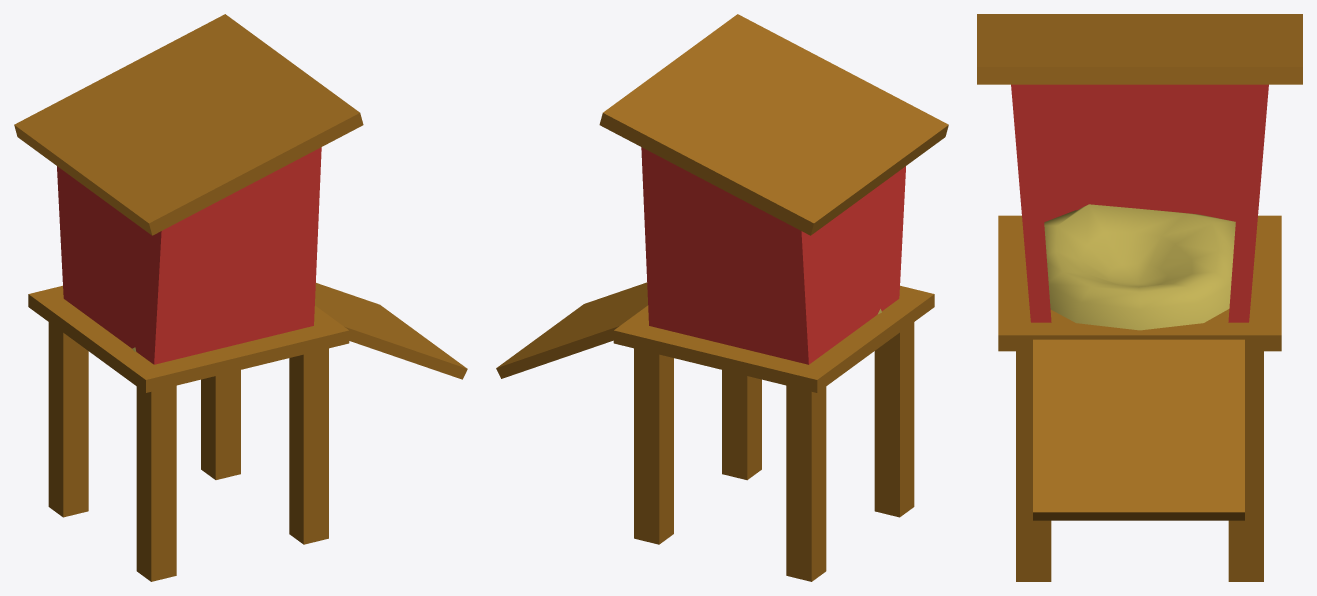
Rendered from Gallinero.fbx.
3 views of the same model, side by side, from view 1: azimuth 30°, elevation 25°; view 2: azimuth 150°, elevation 25°; view 3: azimuth 270°, elevation 25° (orthographic). The views are drawn at different scales.
Visible parts, largest first — view 1: Gallinero.001; view 2: Gallinero.001; view 3: Gallinero.001.
Boxes of the visible parts, <box> form: Gallinero.001: <box>14,14,467,581</box>; Gallinero.001: <box>496,14,948,581</box>; Gallinero.001: <box>977,14,1302,581</box>.
Bounding box in the file's own units: 415 × 342 × 234.
